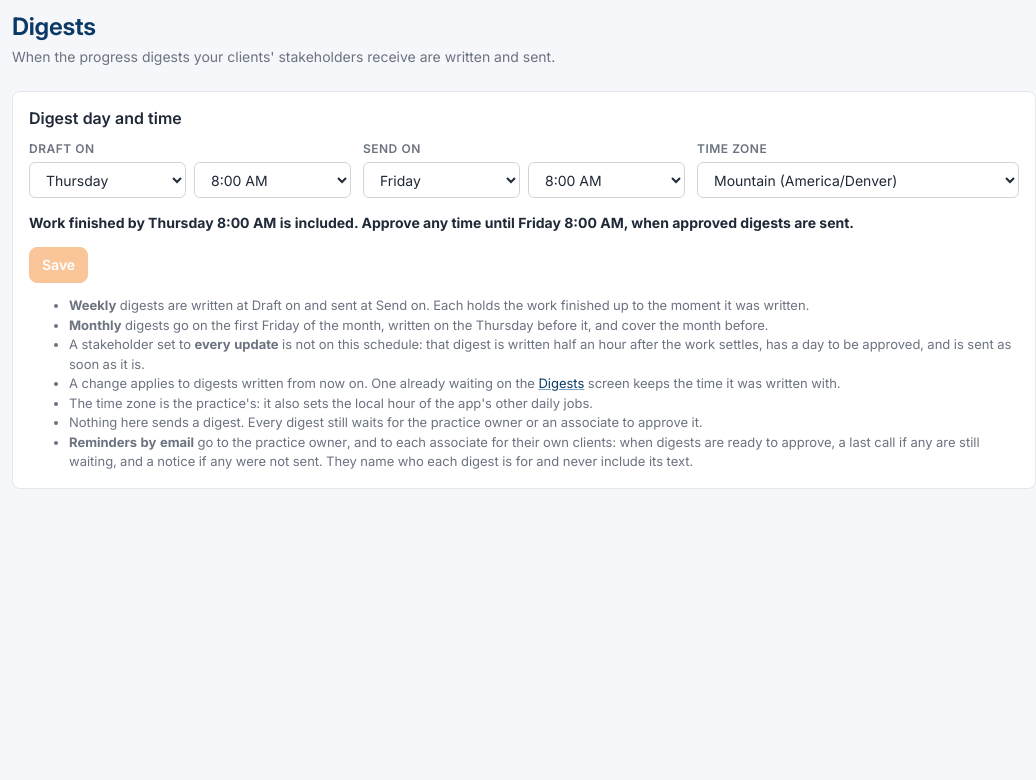
it: Settings → Digests › sets Friday 3:00 PM and Monday 8:00 AM, and the sentence follows as it is set
Select "Monday" in the dropdown named "Send day" at (442, 180), box [363,162,520,198]
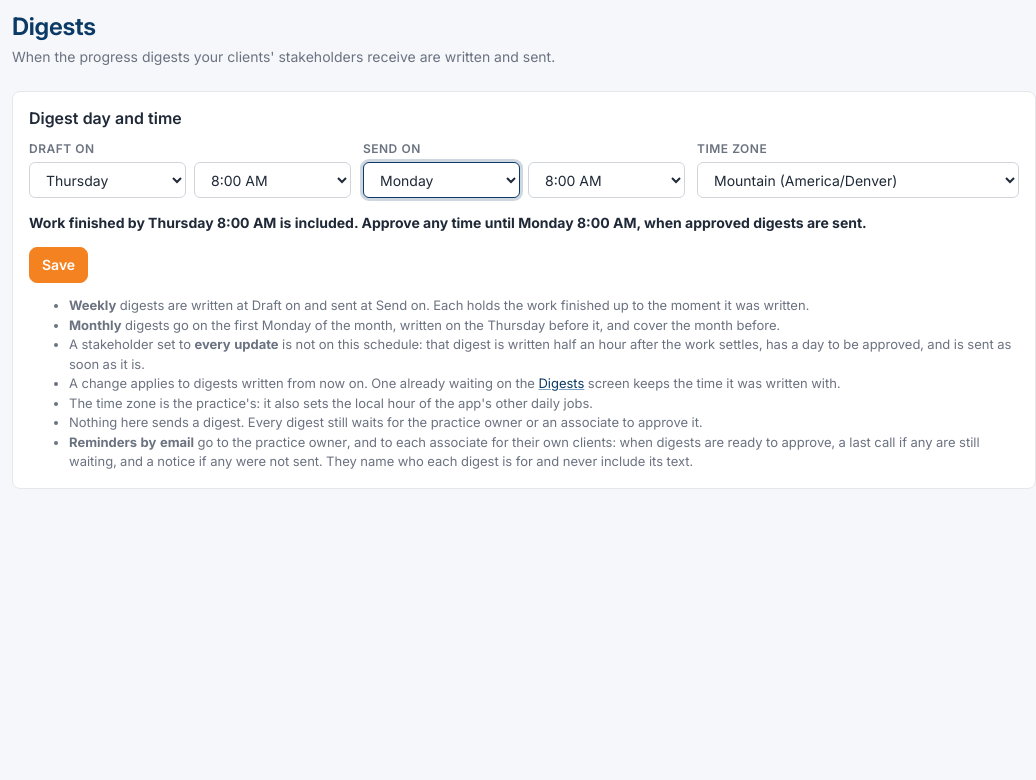
Select "Friday" in the dropdown named "Draft day" at (108, 180), box [29,162,186,198]
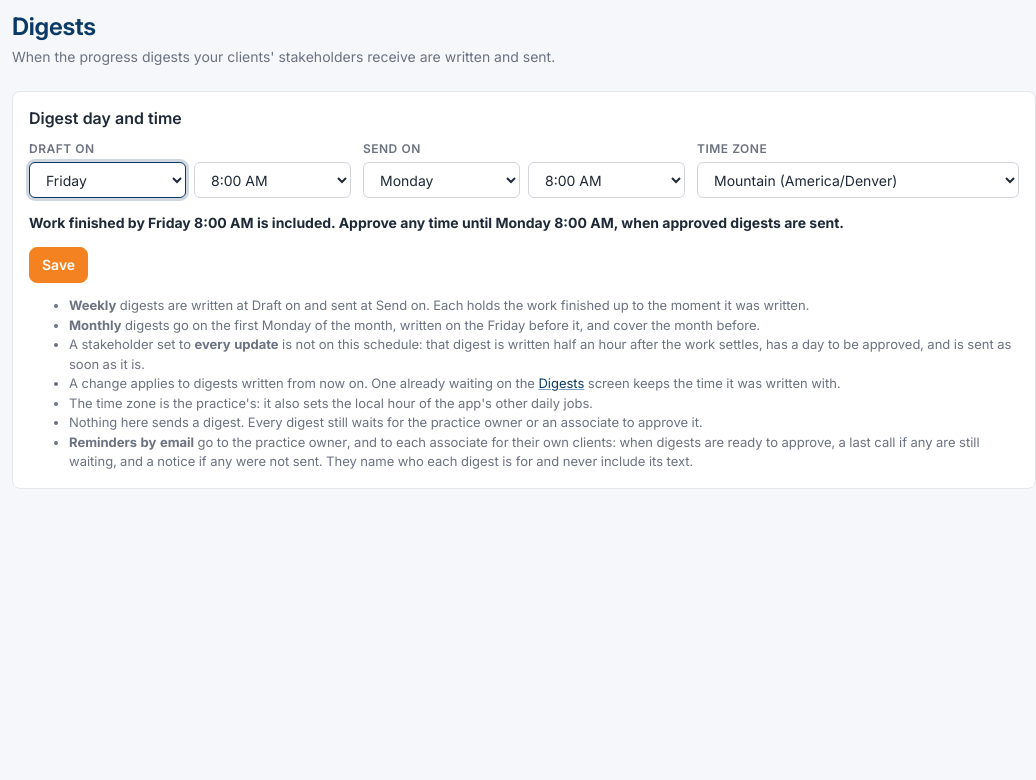
Select "3:00 PM" in the dropdown named "Draft time" at (272, 180), box [194,162,351,198]
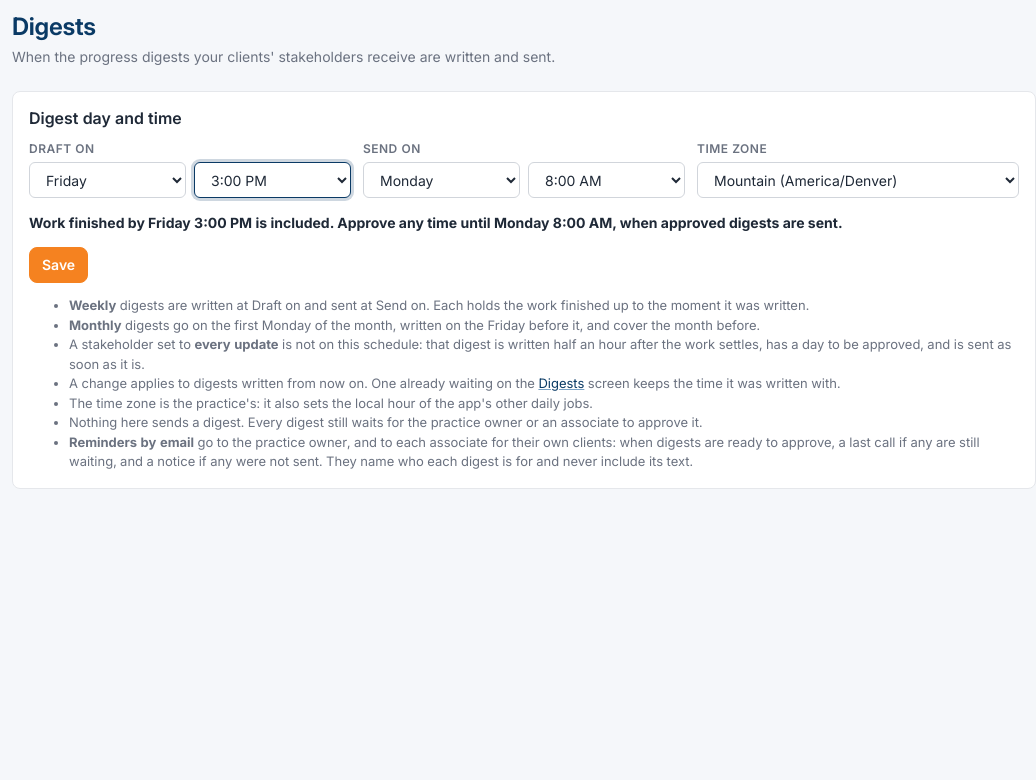
Check: the element named "What this schedule does" shows "Work finished by Friday 3:00 PM is included. Approve any time until Monday 8:00 AM", box [29,214,843,231]
Click the button "Save".
click(59, 265)  # box [29,247,88,283]
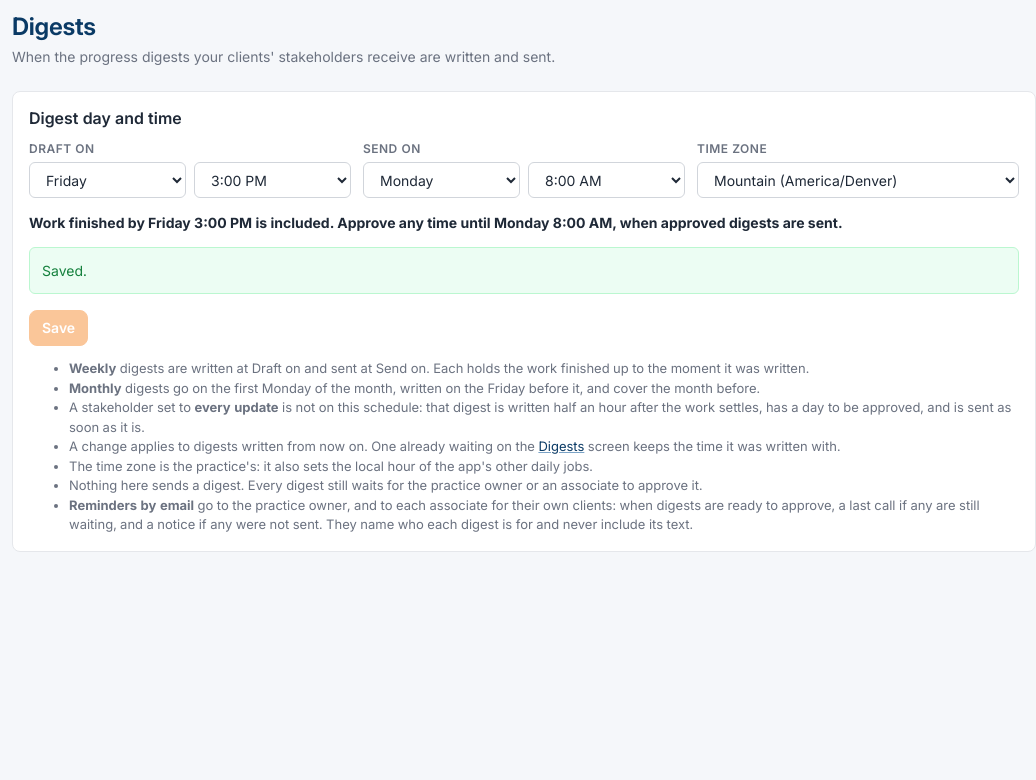
Check: the text "Saved." is shown, box [42,262,87,279]
